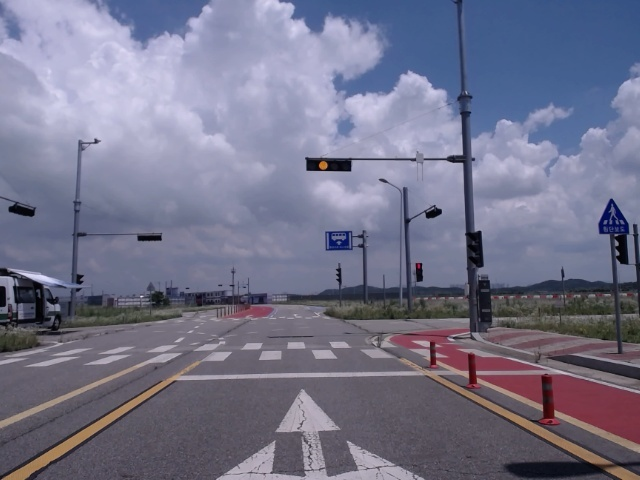orange_4: (307, 159, 351, 171)
